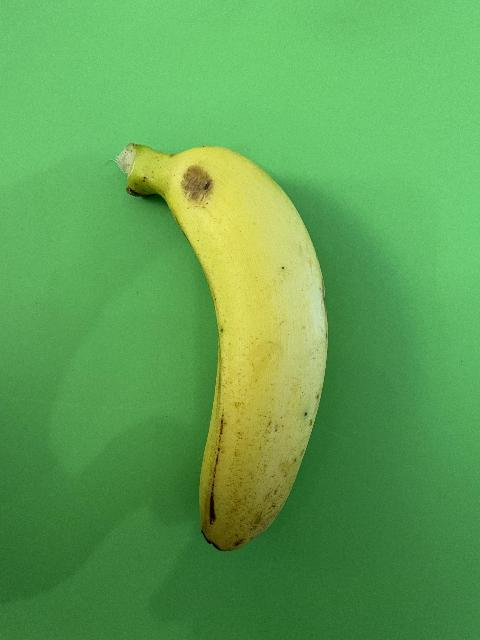banana: (119, 140, 331, 556)
